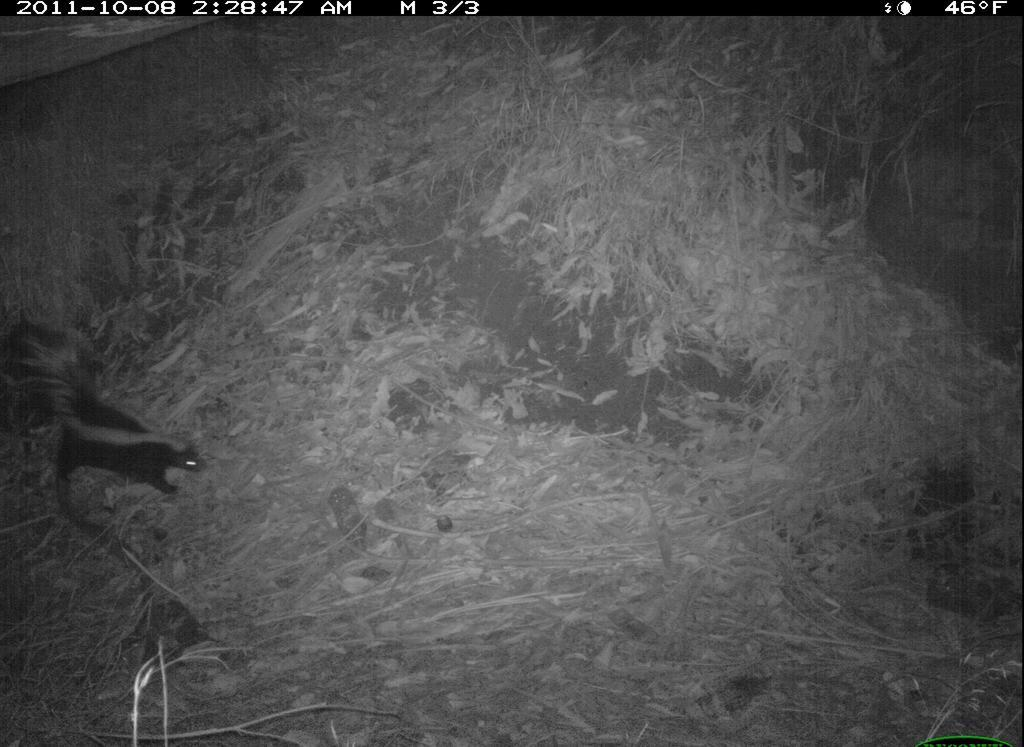skunk: (4, 306, 231, 545)
